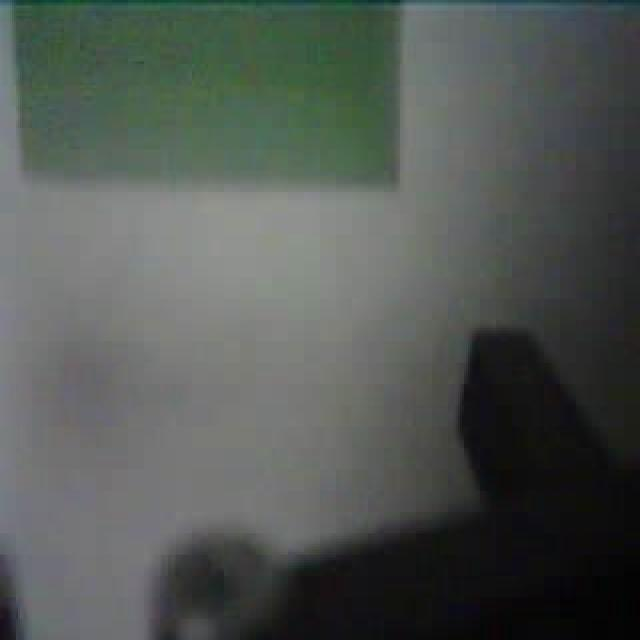green_box: (10, 0, 404, 192)
